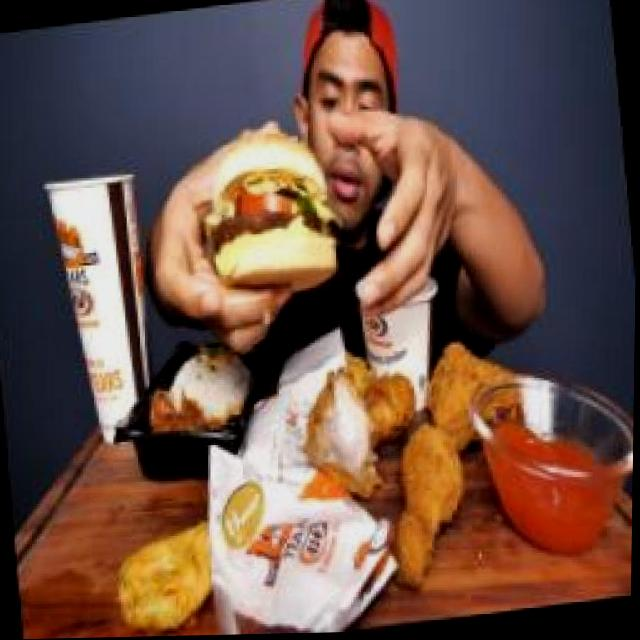AW cola: (30, 145, 173, 452)
black pepper rice bowl: (140, 325, 266, 460)
fried chicken: (290, 338, 541, 593)
mozza burger: (194, 122, 360, 328)
perkedel: (105, 503, 236, 638)
